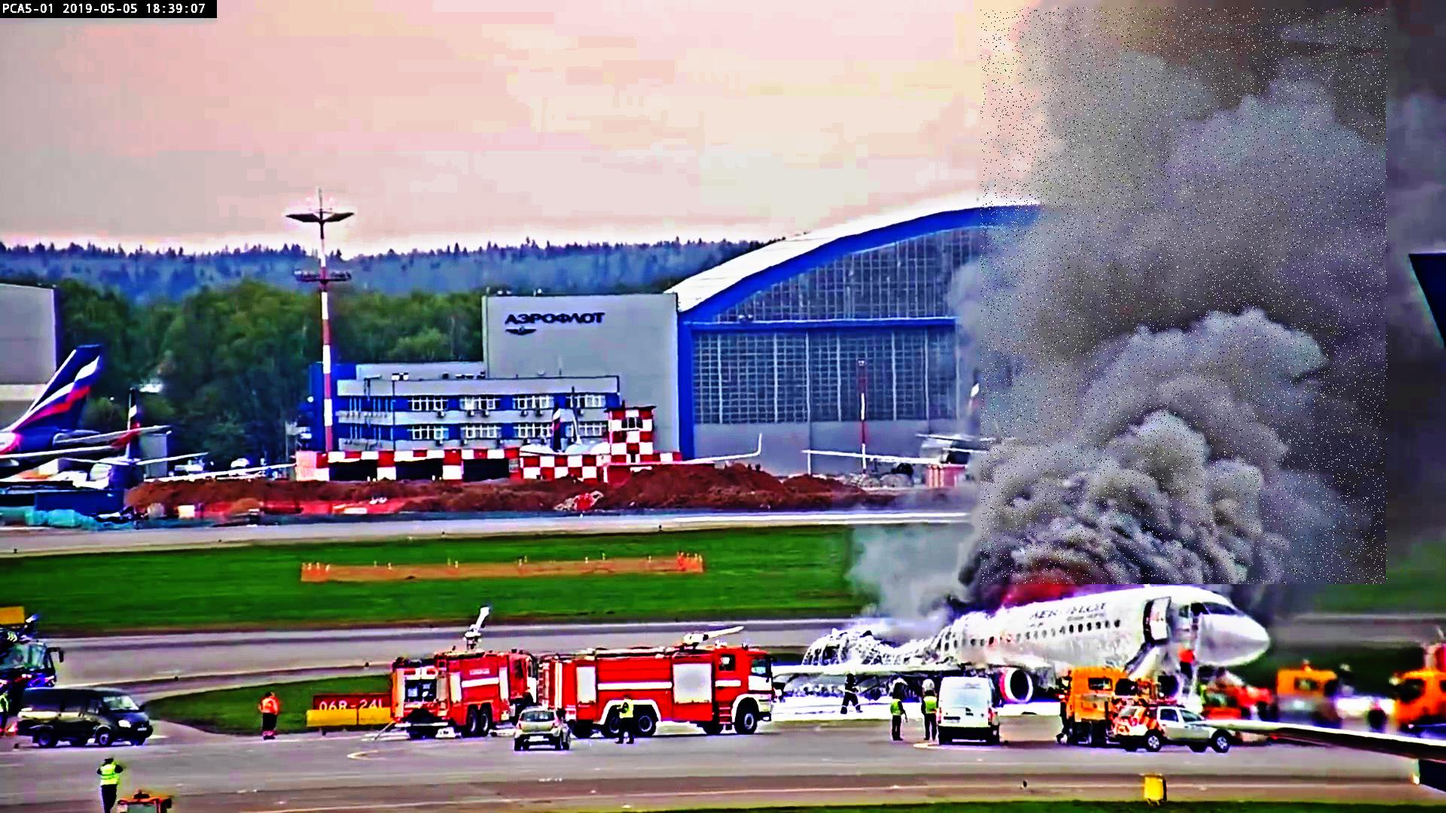smoke: (981, 8, 1388, 584)
